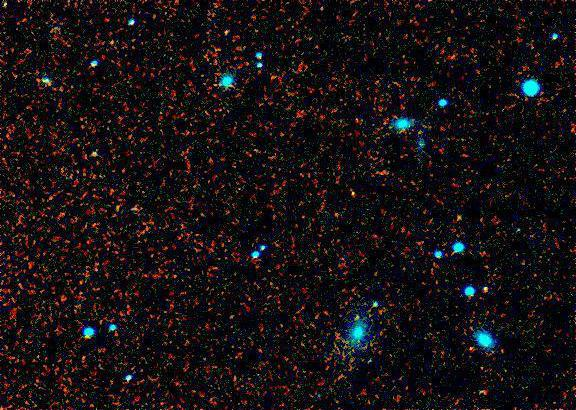star: (341, 302, 371, 332)
